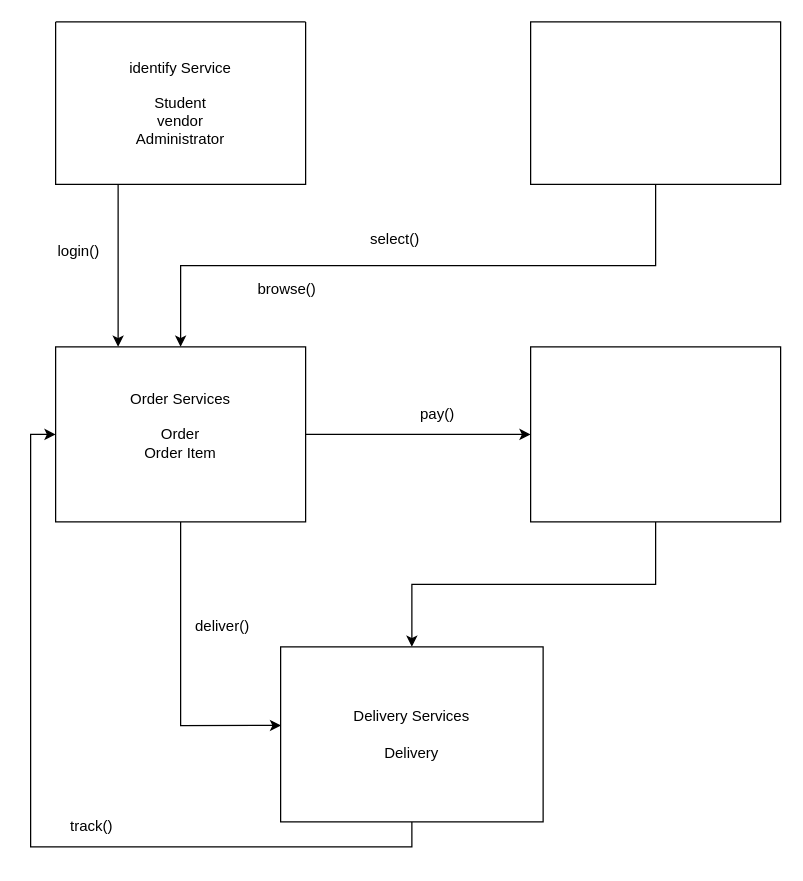
Image size: 803x881. Some labels were removed from this diagram. Here are the shapes that lost their labels. From the top down, the centre of each, then its label:
point (655, 102): Catalog Service Restaurant Food Menu Item
point (655, 434): Payment Services Payment
